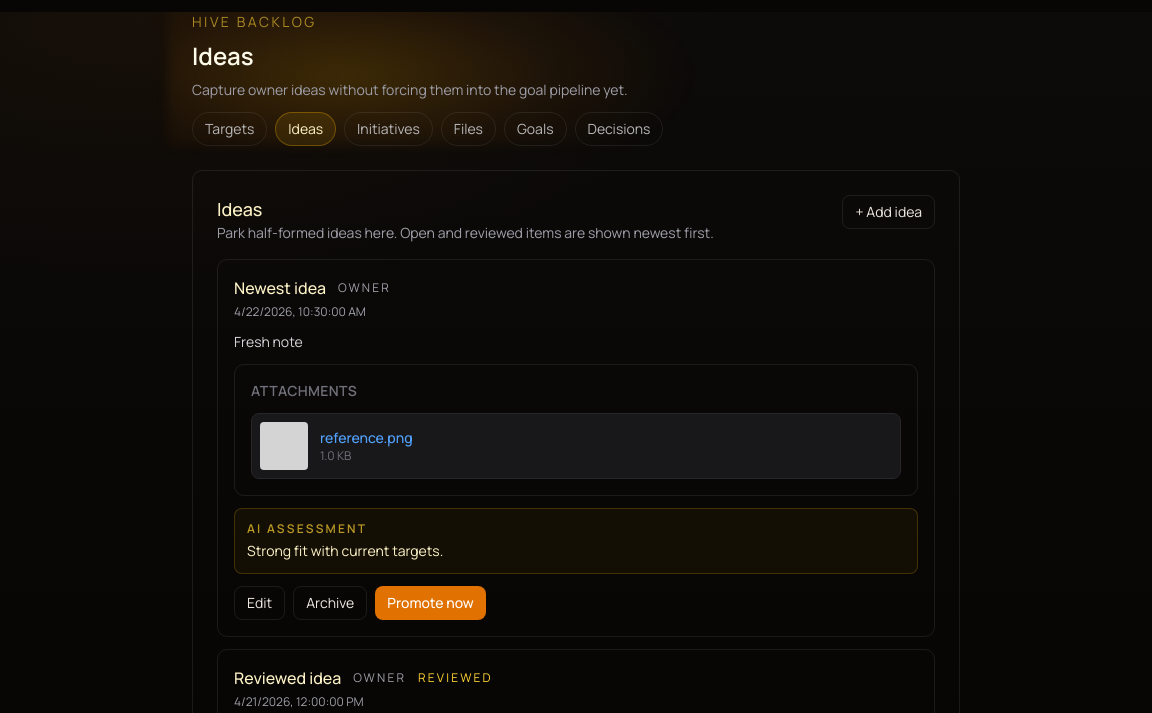
Test: HiveIdeasPage › promotes an idea via /api/work and shows the resulting goal link
The width and height of the screenshot is (1152, 713).
Expected: the heading "Newest idea" is shown, [234,276,326,300]
Click the button "Promote now". click: x=431, y=603
box: [375,586,486,620]
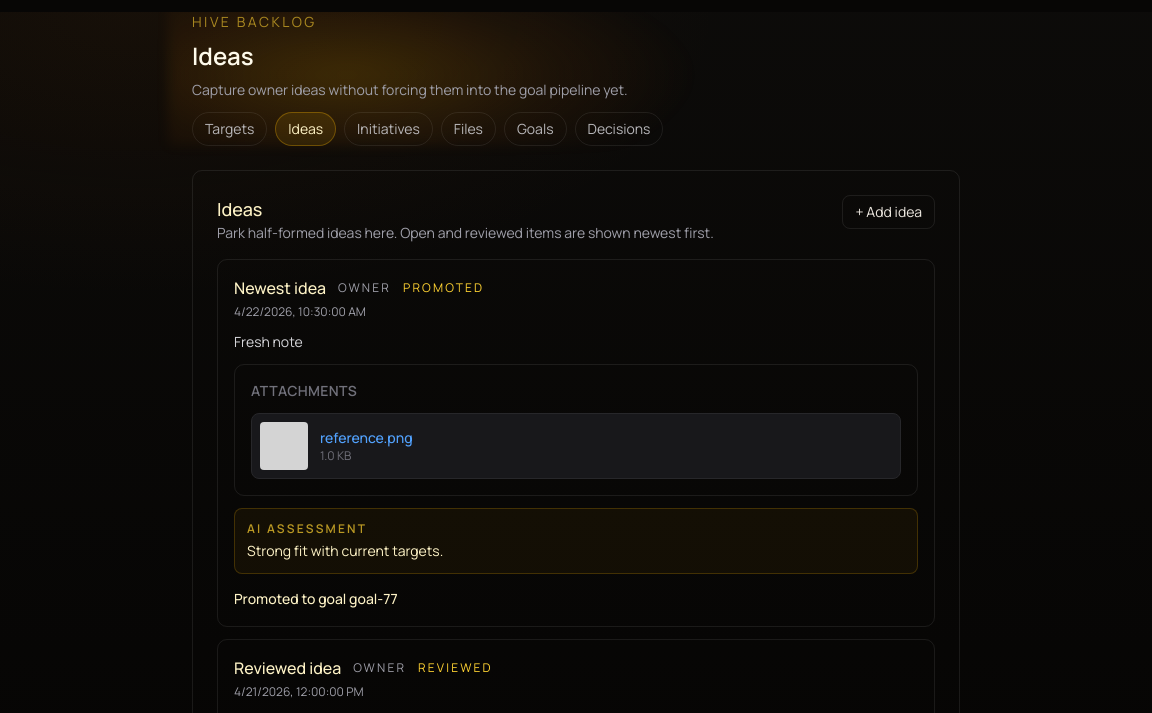
Result: the link "Promoted to goal goal-77" is shown at [234,589,398,609]
